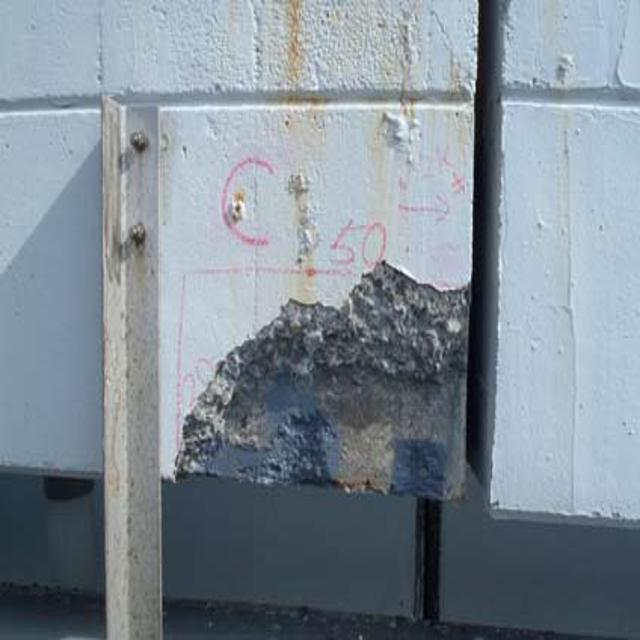spalling: (174, 252, 476, 518)
